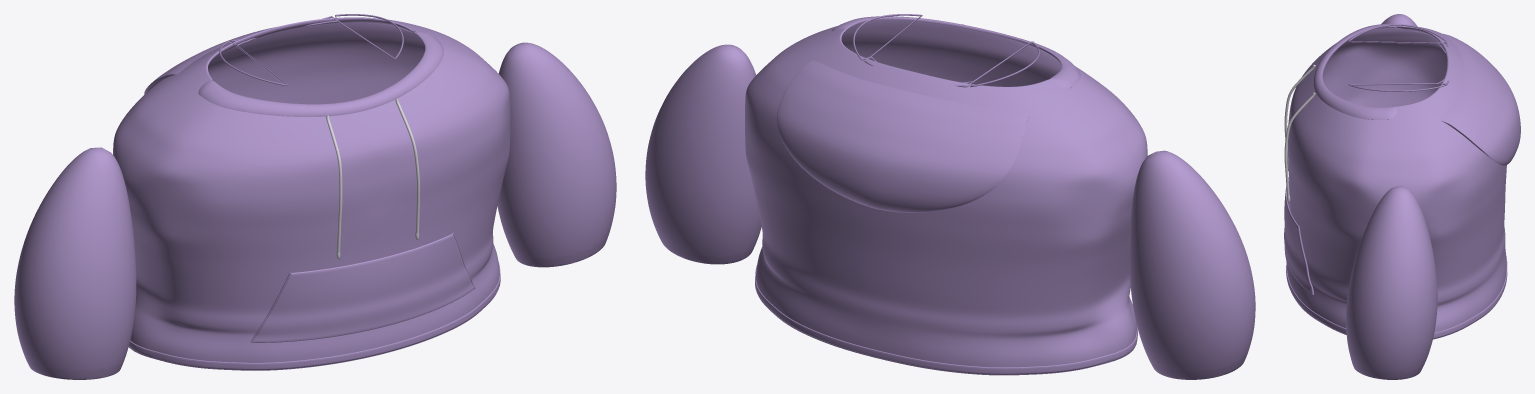
Rendered from Masculine-sweatshirt-top.glb.
The picture shows the model from 3 angles, left to right: view 1: azimuth 30°, elevation 25°; view 2: azimuth 150°, elevation 25°; view 3: azimuth 270°, elevation 25°; orthographic projection. The views are drawn at different scales.
Visible parts, largest first — view 1: Clothing / closed torso201 sweatshirt, Sleeve / full fabric wrap201 -1, Sleeve / full fabric wrap201 1, Hoodie / kangaroo pocket, Hoodie / seated ribbed hem201, Neckline / sewn edge187 export, Hoodie / drawcord201 1 export, Hoodie / drawcord201 -1 export; view 2: Clothing / closed torso201 sweatshirt, Sleeve / full fabric wrap201 -1, Sleeve / full fabric wrap201 1, Hoodie / seated ribbed hem201, Neckline / sewn edge187 export; view 3: Clothing / closed torso201 sweatshirt, Sleeve / full fabric wrap201 1, Hoodie / kangaroo pocket, Hoodie / seated ribbed hem201, Neckline / sewn edge187 export, Hoodie / drawcord201 1 export, Hoodie / drawcord201 -1 export, Sleeve / full fabric wrap201 -1.
Part boxes in pixels (<box>): Clothing / closed torso201 sweatshirt: <box>113,17,510,370</box>; Sleeve / full fabric wrap201 -1: <box>14,147,136,379</box>; Sleeve / full fabric wrap201 1: <box>497,42,616,267</box>; Hoodie / kangaroo pocket: <box>252,233,474,342</box>; Hoodie / seated ribbed hem201: <box>129,262,500,370</box>; Neckline / sewn edge187 export: <box>219,14,403,86</box>; Hoodie / drawcord201 1 export: <box>395,98,420,233</box>; Hoodie / drawcord201 -1 export: <box>326,115,342,253</box>; Clothing / closed torso201 sweatshirt: <box>745,16,1147,375</box>; Sleeve / full fabric wrap201 -1: <box>1129,150,1255,379</box>; Sleeve / full fabric wrap201 1: <box>645,44,761,264</box>; Hoodie / seated ribbed hem201: <box>755,265,1137,374</box>; Neckline / sewn edge187 export: <box>853,14,1039,87</box>; Clothing / closed torso201 sweatshirt: <box>1287,23,1520,339</box>; Sleeve / full fabric wrap201 1: <box>1346,185,1437,379</box>; Hoodie / kangaroo pocket: <box>1284,177,1311,293</box>; Hoodie / seated ribbed hem201: <box>1286,254,1507,338</box>; Neckline / sewn edge187 export: <box>1348,24,1449,91</box>; Hoodie / drawcord201 1 export: <box>1284,92,1315,197</box>; Hoodie / drawcord201 -1 export: <box>1284,65,1315,164</box>; Sleeve / full fabric wrap201 -1: <box>1381,14,1417,26</box>.
Size of the model in its own units: 1.09 by 0.4678 by 0.4627.
